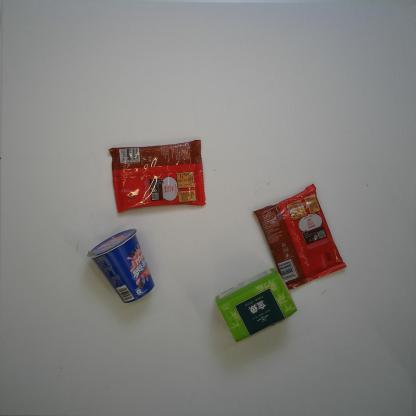Dessert: (252, 182, 347, 291), (108, 139, 206, 214), (86, 227, 156, 304)
Tissue: (214, 267, 299, 343)
